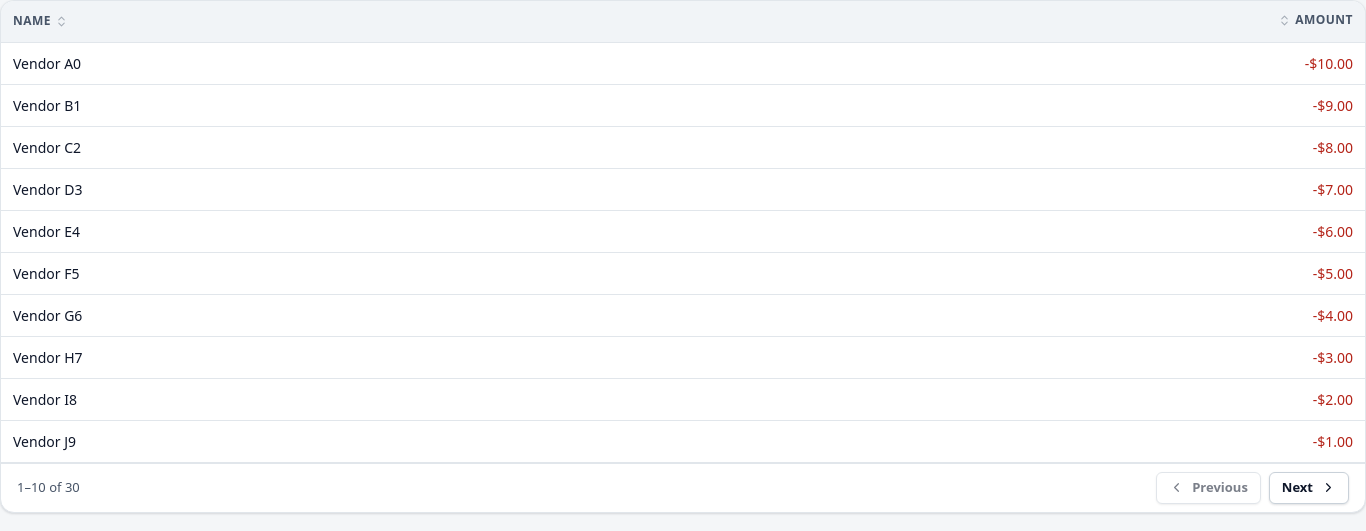
DataTable › sorts, filters, and paginates on the client
Check: the navigation bar named "Pagination" shows "1–10 of 30", box x1=1 y1=462 x2=1365 y2=512
Click the button "Amount": point(1316, 20) x1=1278 y1=11 x2=1353 y2=29
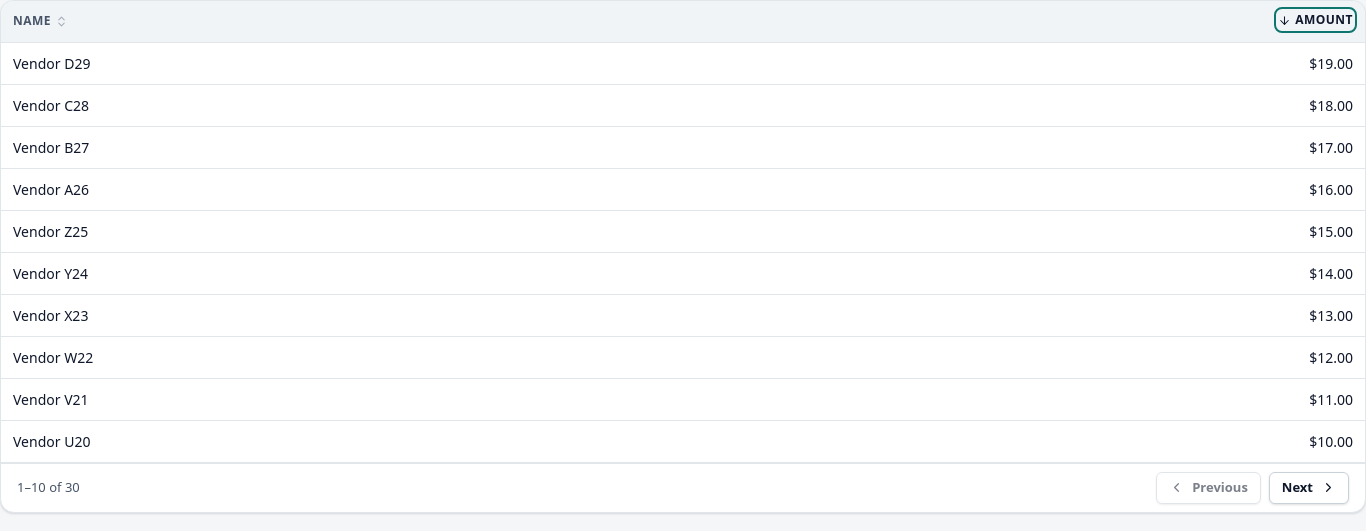
Check: the cell "$19.00" is shown, box x1=701 y1=42 x2=1365 y2=84
Click the button "Next": point(1309, 488) x1=1269 y1=472 x2=1349 y2=504
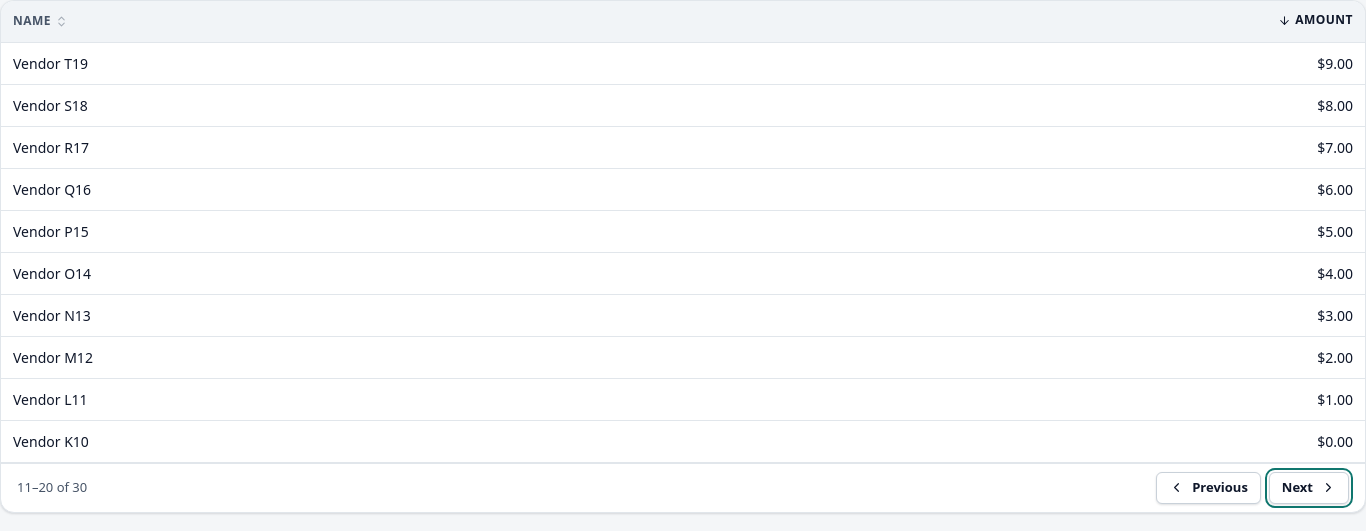
Check: the cell "$9.00" is shown, box x1=700 y1=42 x2=1365 y2=84
